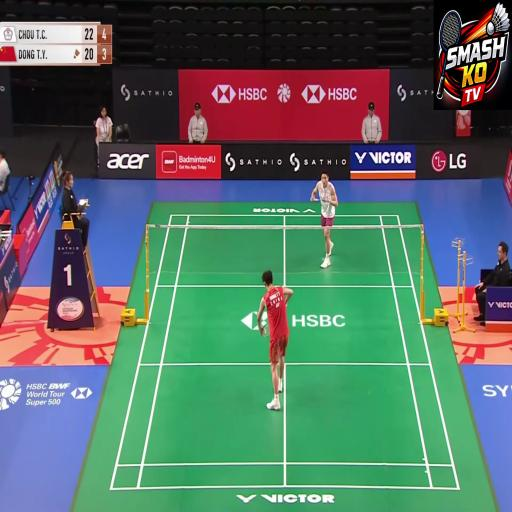player: (257, 255, 301, 436), (298, 163, 342, 273)
